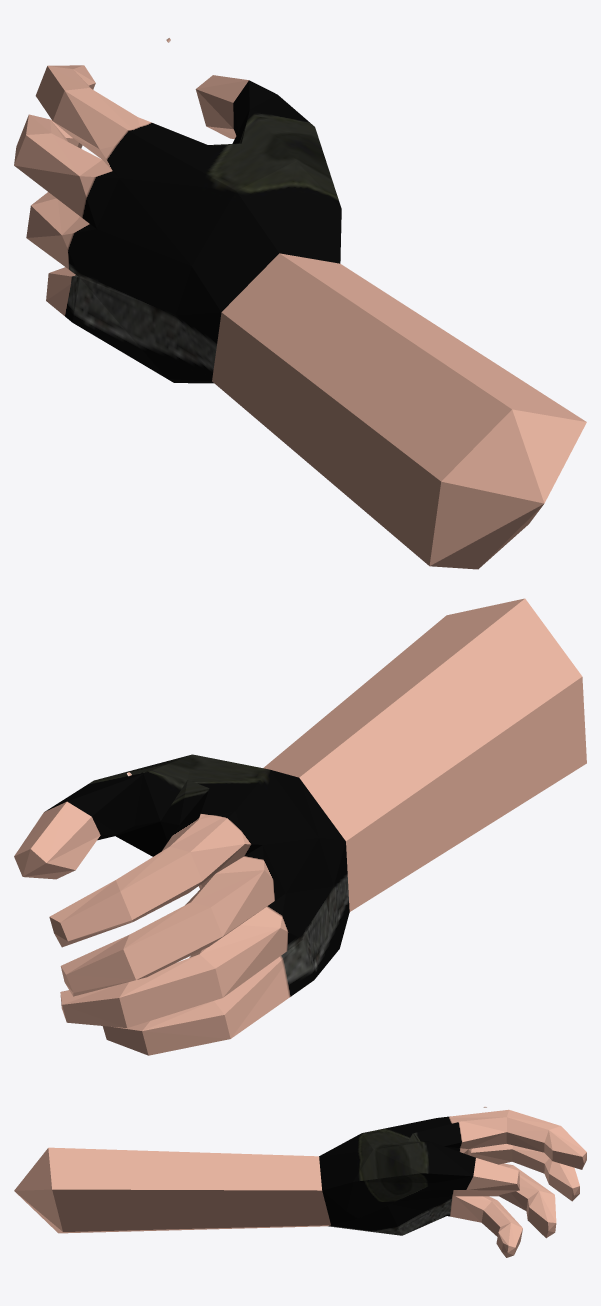
The model's file is leftHand.obj.
The picture shows the model from 3 angles, top to bottom: view 1: azimuth 30°, elevation 25°; view 2: azimuth 150°, elevation 25°; view 3: azimuth 270°, elevation 25°; orthographic projection. The views are drawn at different scales.
Parts seen in each view (by area): view 1: leftHand; view 2: leftHand; view 3: leftHand.
Boxes of the visible parts, x1,y1,x2,y2 form: leftHand: (14, 38, 586, 569); leftHand: (14, 598, 586, 1055); leftHand: (14, 1106, 586, 1257).
Bounding box in the file's own units: 1.1 × 1.37 × 3.88.
